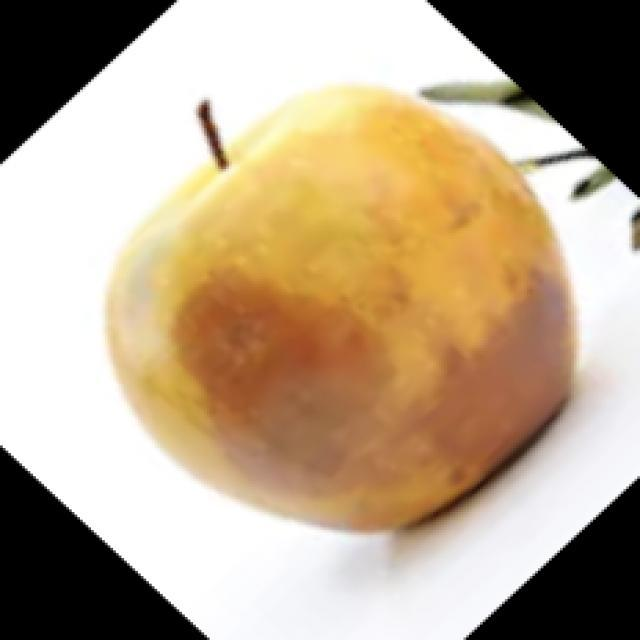Rotten: (117, 92, 593, 538)
